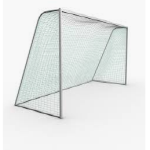goals: (12, 6, 131, 124)
